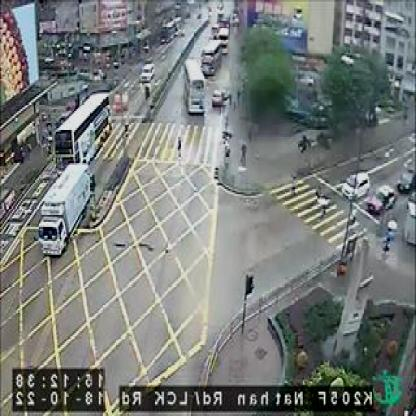Bus: (53, 90, 112, 170), (182, 57, 206, 116), (200, 40, 222, 76)
Car: (367, 184, 397, 216), (341, 171, 371, 200), (397, 170, 415, 198), (141, 61, 155, 82), (210, 88, 224, 108)
Truck: (36, 162, 94, 258)
